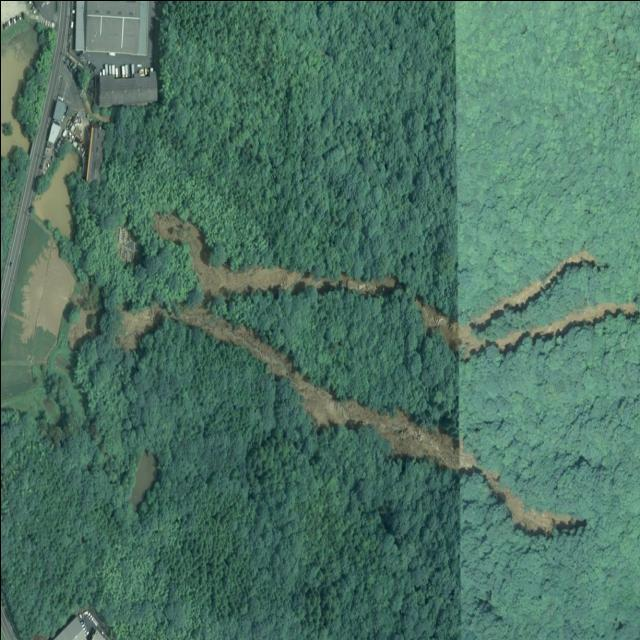landslide: (120, 305, 460, 469), (456, 247, 640, 362), (152, 213, 396, 295), (461, 449, 586, 537), (415, 298, 460, 351)
